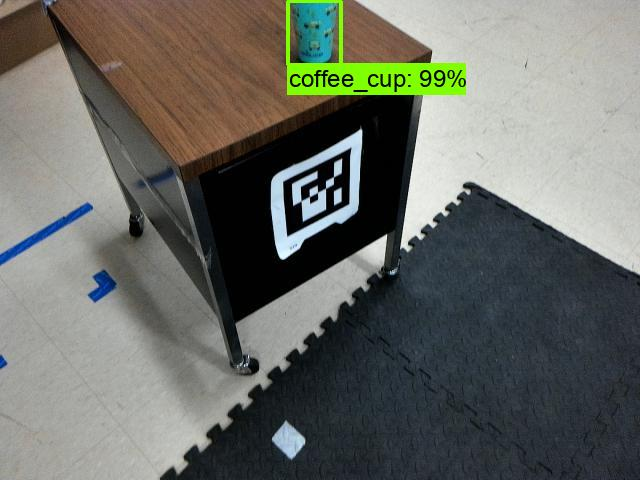coffee_cup: (288, 1, 342, 65)
